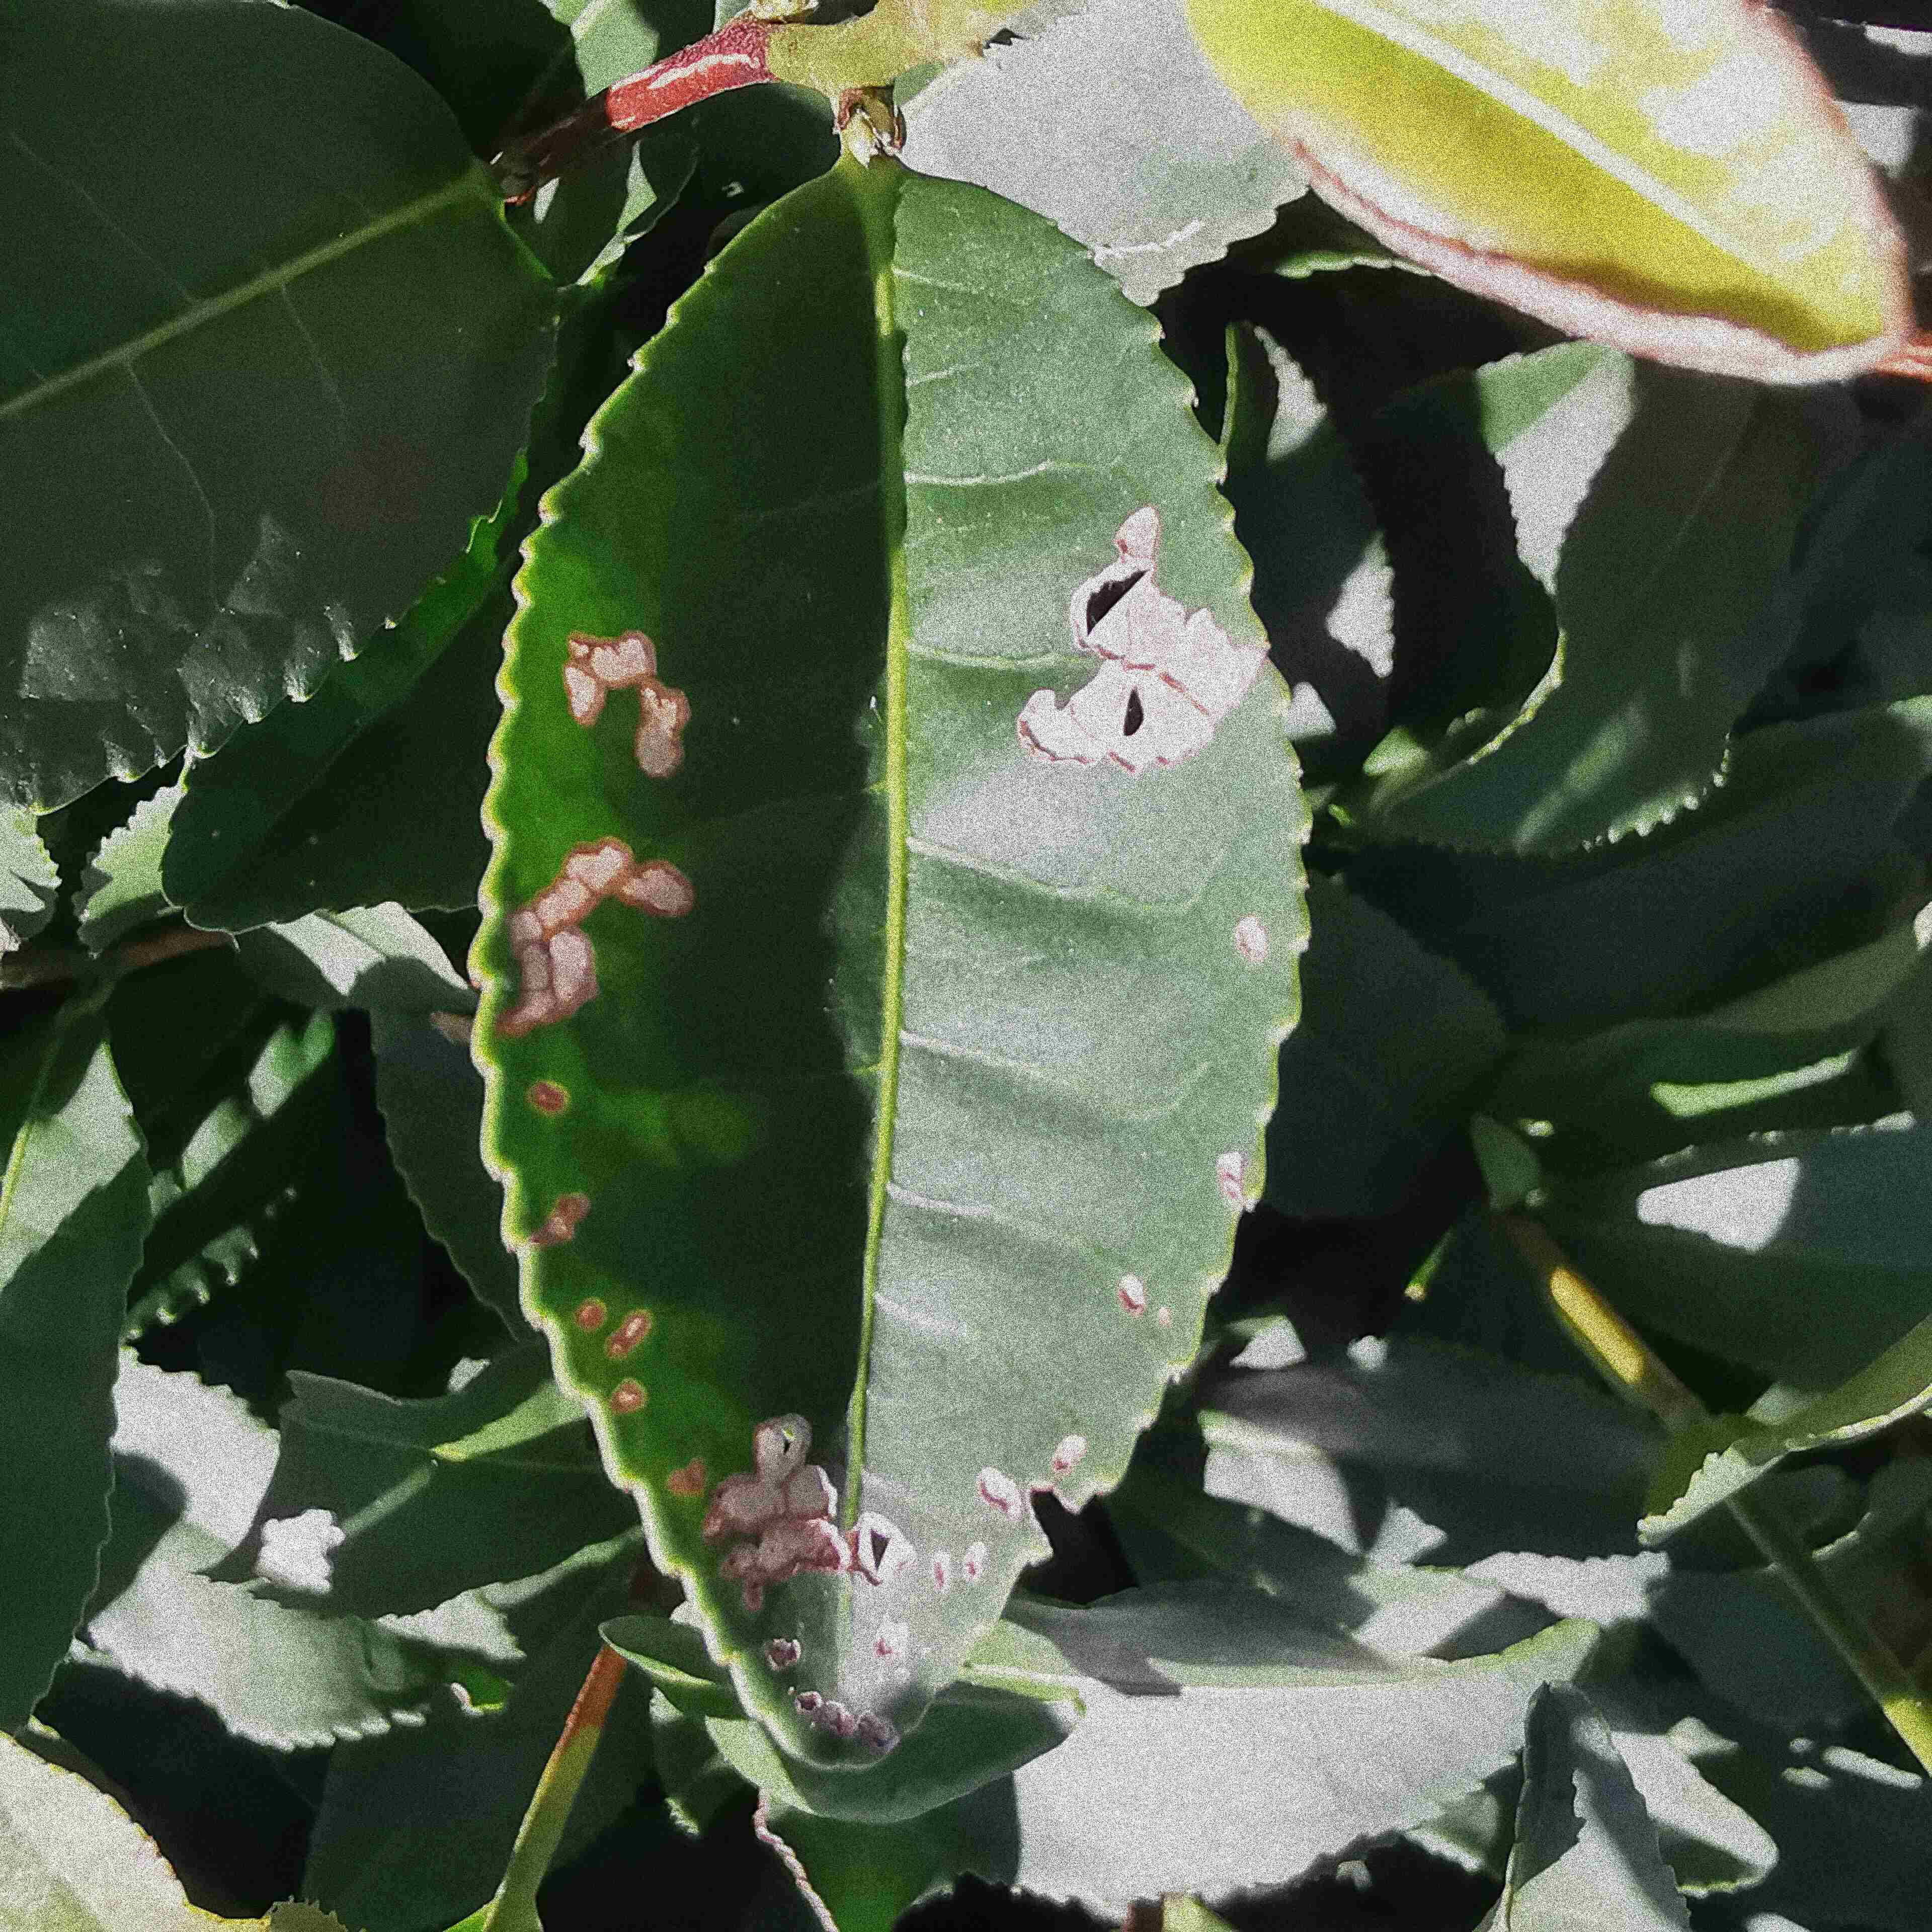healthy: (4, 2, 561, 821)
tanju_high: (465, 159, 1318, 1773)
tanju_low: (1180, 4, 1913, 391)
